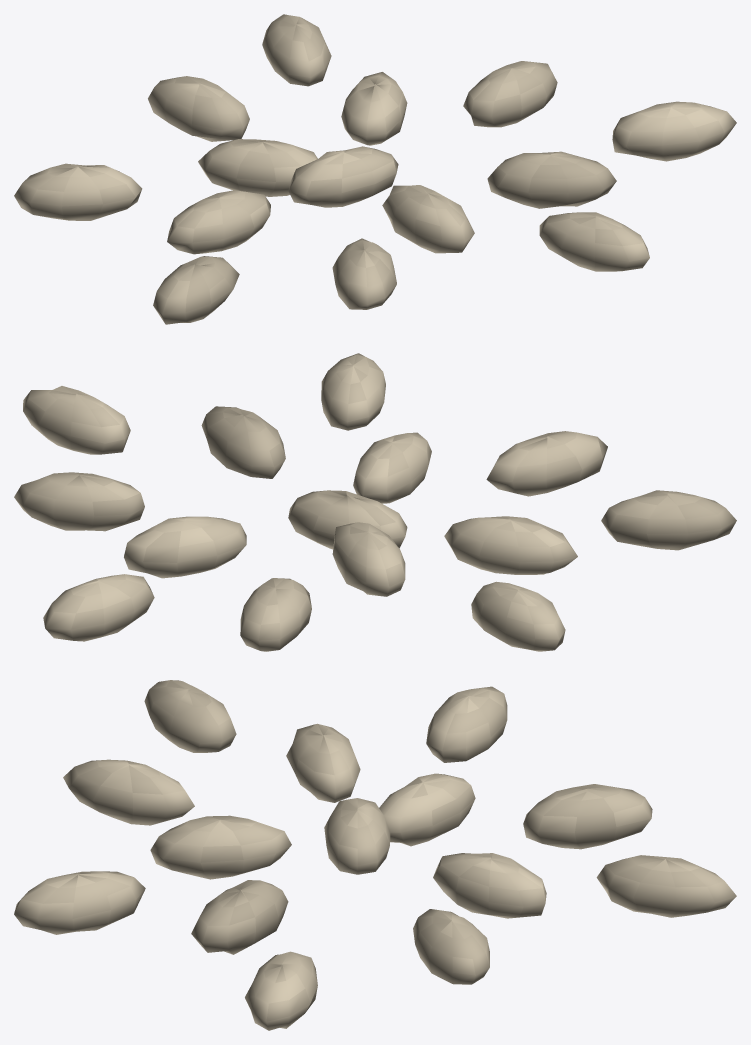
The model's file is WhiteBeans.glb.
3 renders of one model, top to bottom at view 1: azimuth 30°, elevation 25°; view 2: azimuth 150°, elevation 25°; view 3: azimuth 270°, elevation 25°, orthographic. The views are drawn at different scales.
Visible parts, largest first — view 1: WhiteBeans; view 2: WhiteBeans; view 3: WhiteBeans.
Part boxes in pixels (box(x1,y1,x2,y2)): WhiteBeans: box(14, 14, 736, 324); WhiteBeans: box(14, 353, 736, 651); WhiteBeans: box(14, 680, 736, 1030).
Size of what is drawn, in the model's own units: 0.0667 by 0.00529 by 0.0615.
